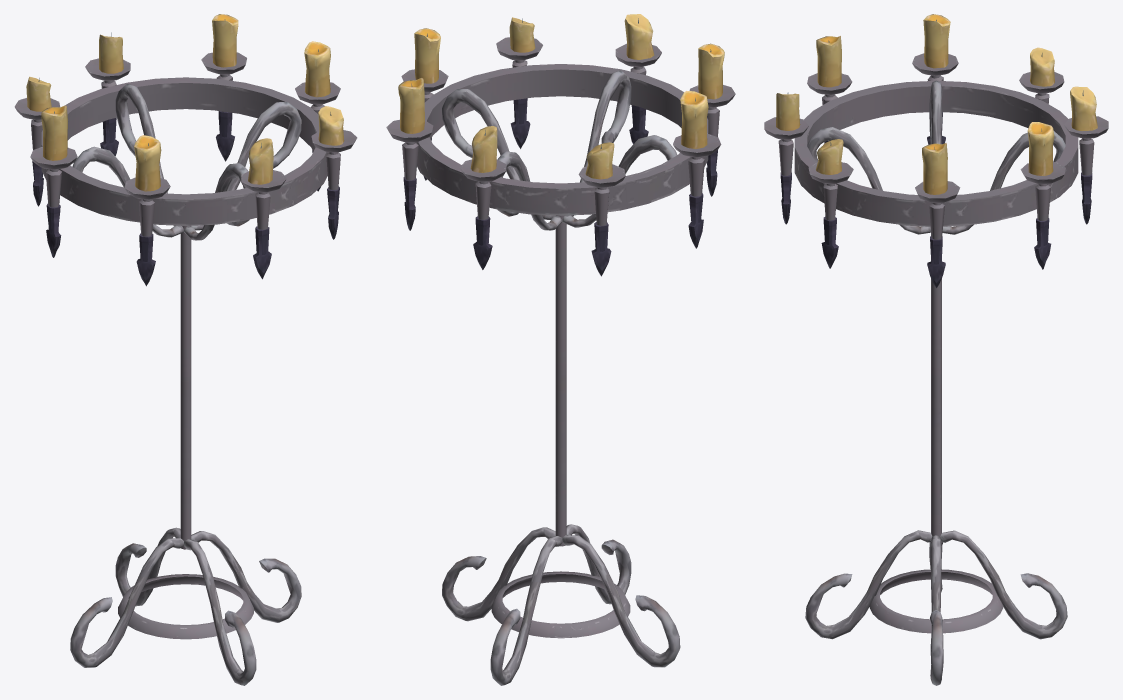
Rendered from candle-stick-stand.glb.
3 views of the same model, side by side, from view 1: azimuth 30°, elevation 25°; view 2: azimuth 150°, elevation 25°; view 3: azimuth 270°, elevation 25° (orthographic). The views are drawn at different scales.
Visible parts, largest first — view 1: CandleStick_Stand; view 2: CandleStick_Stand; view 3: CandleStick_Stand.
Boxes of the visible parts, x1,y1,x2,y2 form: CandleStick_Stand: [14, 14, 357, 685]; CandleStick_Stand: [386, 14, 735, 685]; CandleStick_Stand: [764, 14, 1108, 685].
Size of the model in its own units: 0.7323 by 1.31 by 0.7313.
2 materials, 2 textured.
